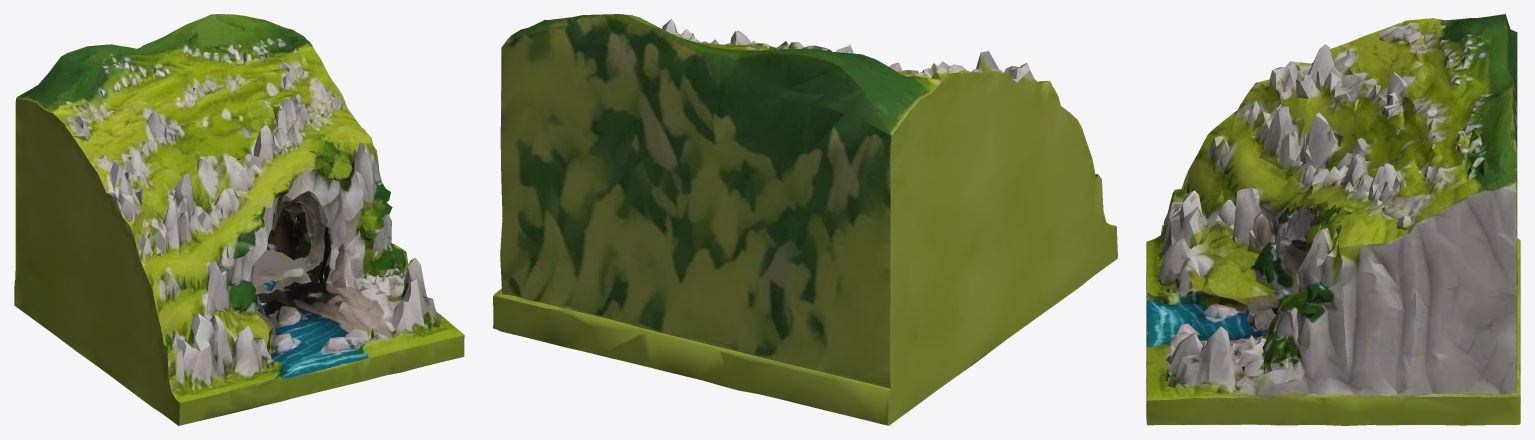
The model's file is akiyoshido.glb.
3 views of the same model, side by side, from view 1: azimuth 30°, elevation 25°; view 2: azimuth 150°, elevation 25°; view 3: azimuth 270°, elevation 25° (orthographic). The views are drawn at different scales.
Visible parts, largest first — view 1: logan-textured.obj; view 2: logan-textured.obj; view 3: logan-textured.obj.
Boxes of the visible parts, bbox=[...] form: logan-textured.obj: bbox=[14, 14, 464, 425]; logan-textured.obj: bbox=[493, 14, 1117, 425]; logan-textured.obj: bbox=[1146, 14, 1520, 425].
Size of the model in its own units: 1 by 0.8274 by 0.9995.
1 material, 1 textured.
